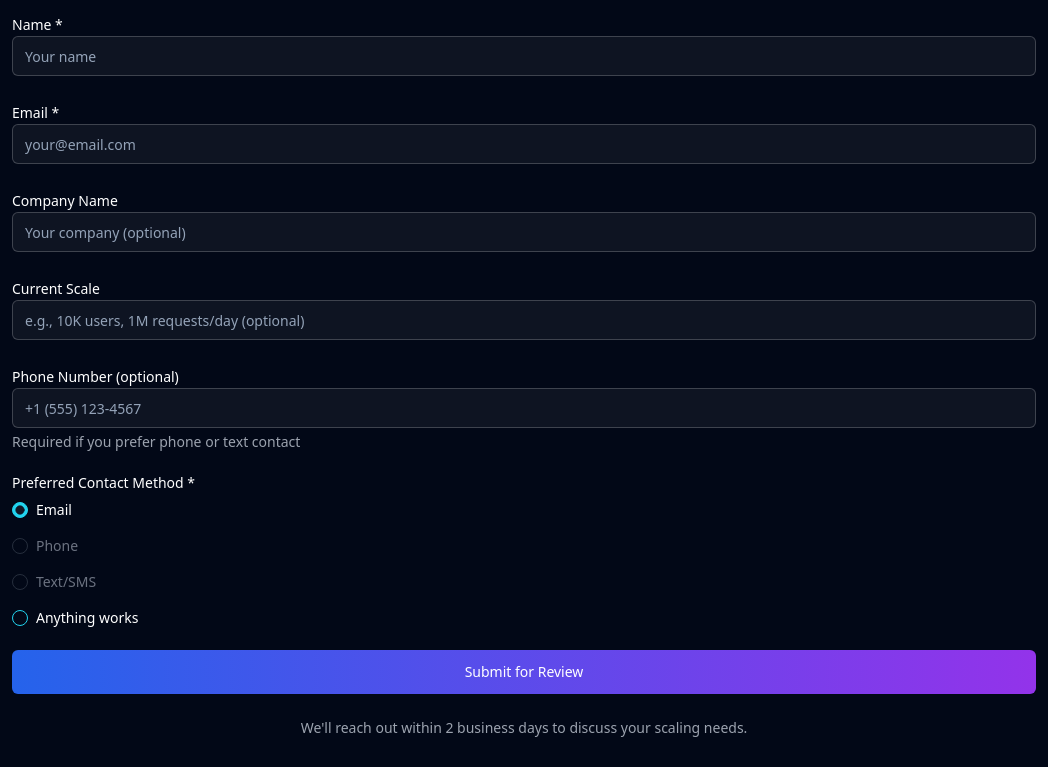
Test case: Adventure Game Forms › LaunchControl Path Forms › LaunchControlWaitlistForm › validates all required fields
Click the button "Submit for Review" at {"x": 524, "y": 672}, box x1=12 y1=650 x2=1036 y2=694
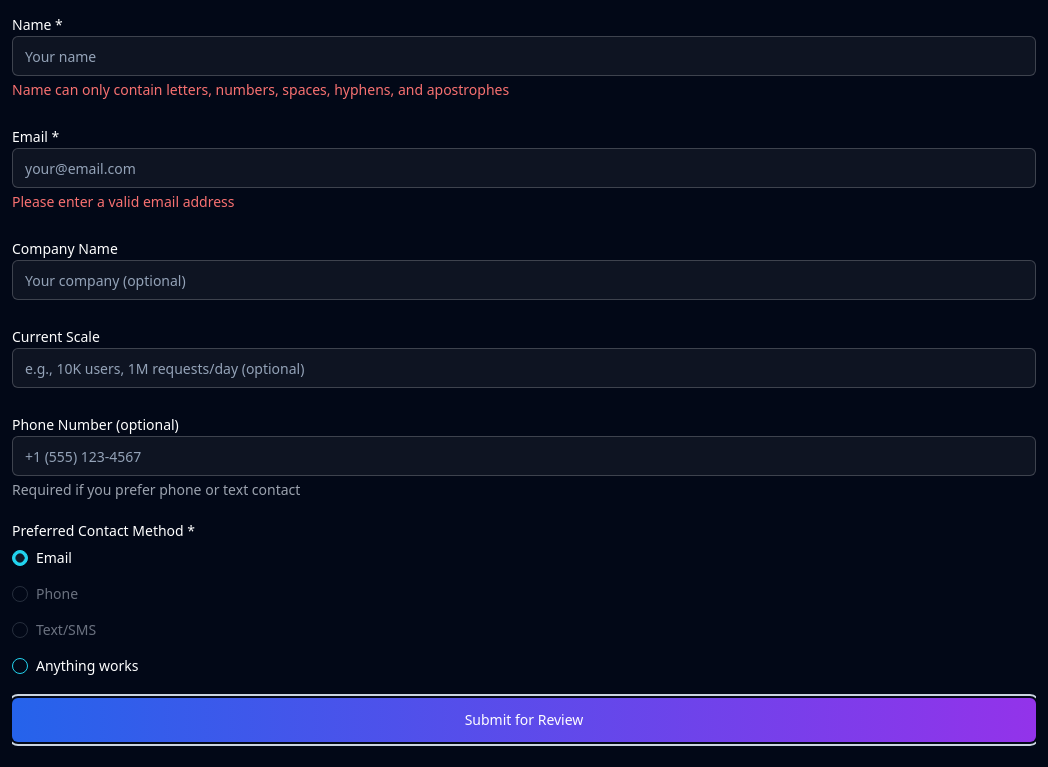
Check: the text "Name can only contain letters, numbers" is shown, box x1=12 y1=80 x2=509 y2=99
